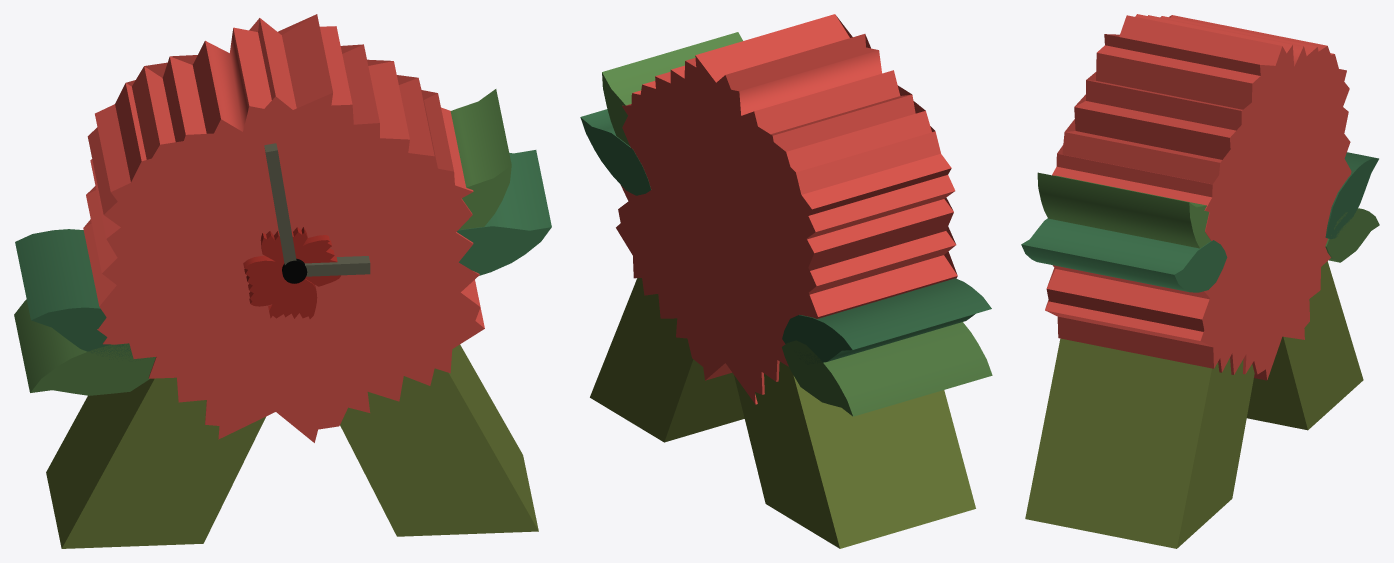
The model's file is clock.fbx.
3 views of the same model, side by side, from view 1: azimuth 30°, elevation 25°; view 2: azimuth 150°, elevation 25°; view 3: azimuth 270°, elevation 25° (orthographic). The views are drawn at different scales.
Parts seen in each view (by area): view 1: polySurface101; view 2: polySurface101; view 3: polySurface101.
Part boxes in pixels (x1,y1,x2,y2): polySurface101: (14,14,551,548); polySurface101: (580,14,992,548); polySurface101: (1021,14,1379,548).
Bounding box in the file's own units: 4.11 × 3.67 × 2.89.
